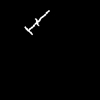double_crochet: (25, 11, 48, 34)
